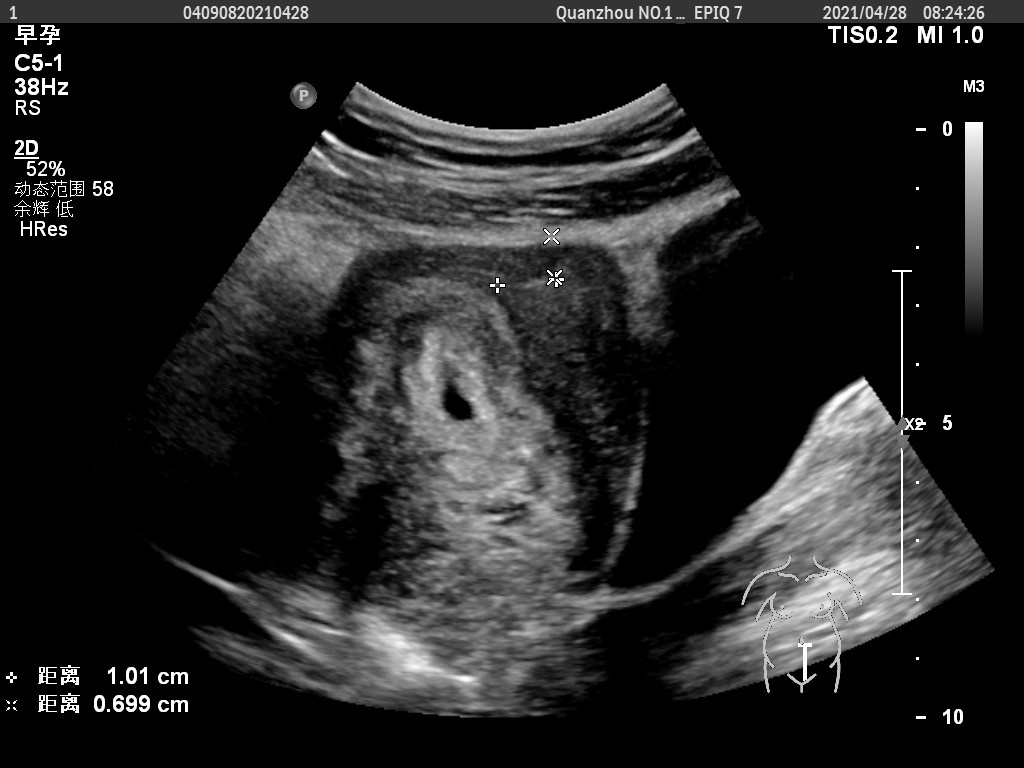肌瘤: (496, 234, 559, 287)
